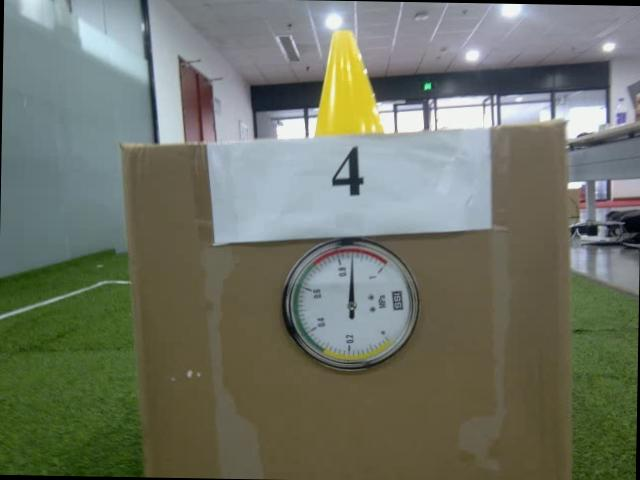4: (324, 141, 368, 199)
Dashboard: (278, 238, 421, 374)
ssi: (389, 288, 404, 314)
yellow_barrel: (314, 28, 389, 136)
